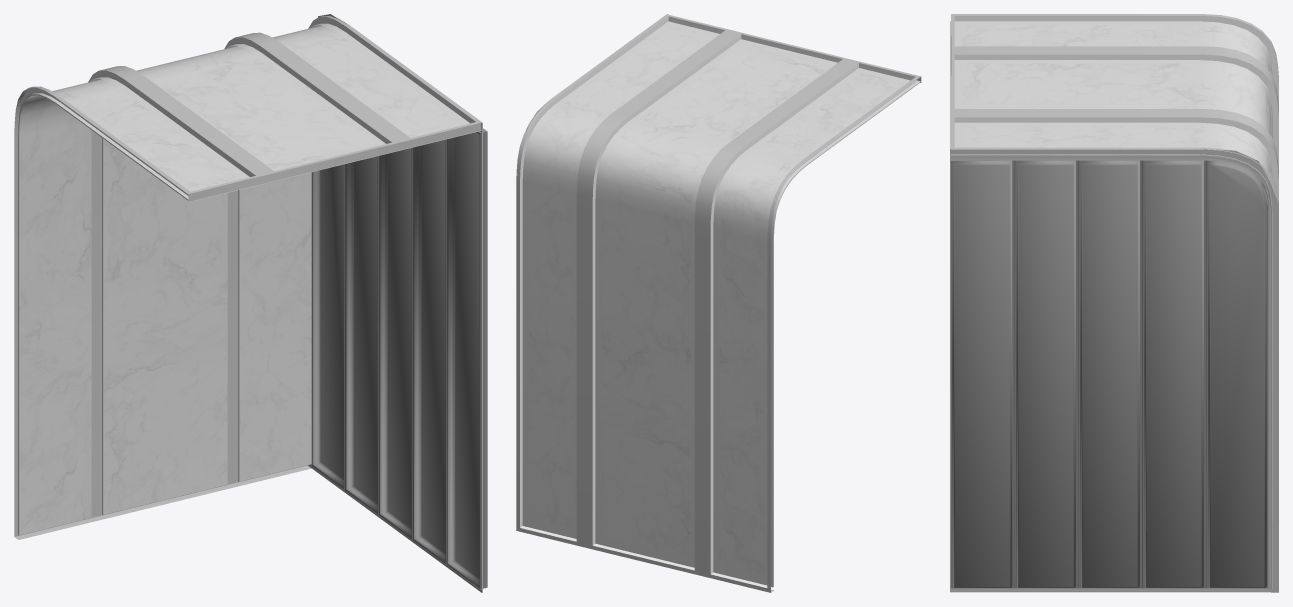
3 views of the same model, side by side, from view 1: azimuth 30°, elevation 25°; view 2: azimuth 150°, elevation 25°; view 3: azimuth 270°, elevation 25° (orthographic). The views are drawn at different scales.
Visible parts, largest first — view 1: M_W_010_g_8x12; view 2: M_W_010_g_8x12; view 3: M_W_010_g_8x12.
Boxes of the visible parts, x1,y1,x2,y2 form: M_W_010_g_8x12: (14, 14, 487, 592); M_W_010_g_8x12: (516, 14, 921, 592); M_W_010_g_8x12: (950, 14, 1278, 592).
Bounding box in the file's own units: 8.13 × 12.2 × 8.2.
